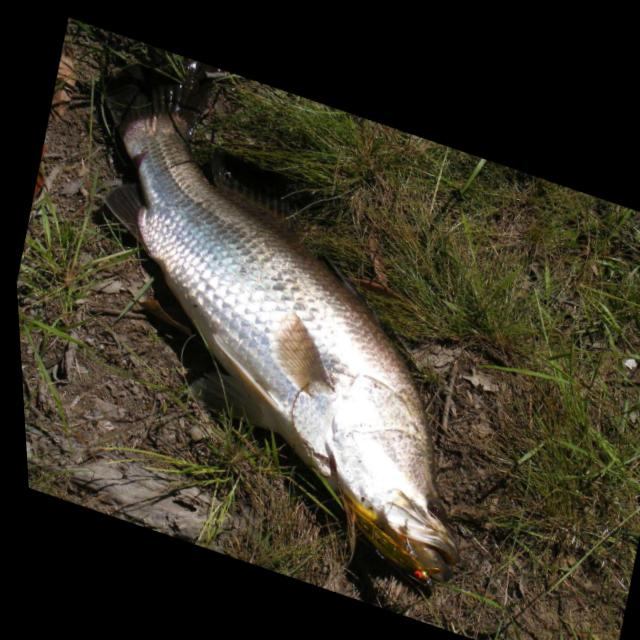Seabass: (8, 32, 555, 600)
